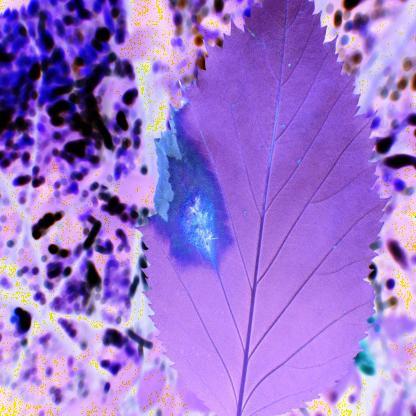Apple rust leaf: (155, 10, 389, 416)
